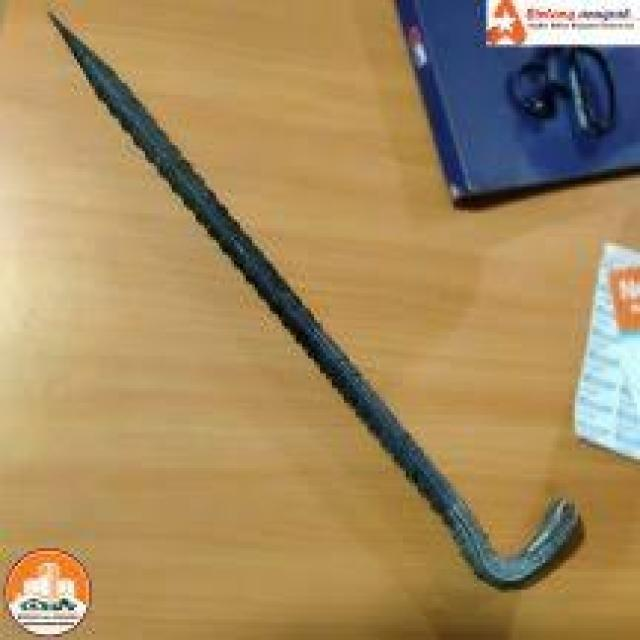Linggis: (34, 1, 586, 590)
